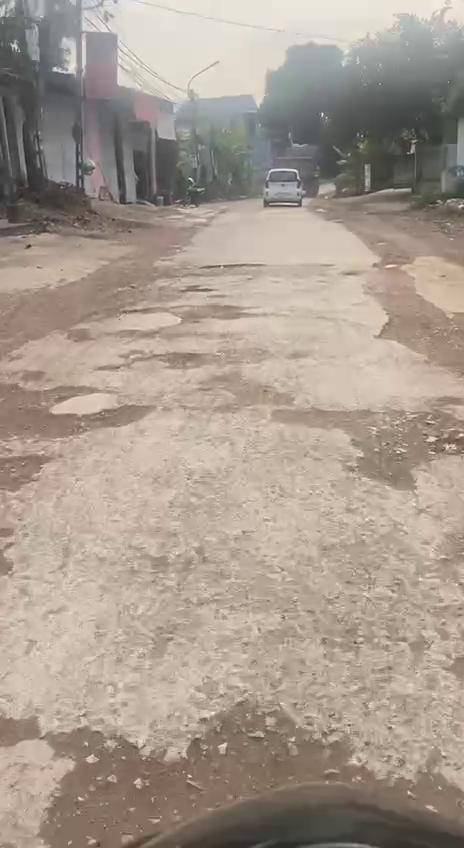pothole: (20, 704, 464, 848), (320, 402, 464, 488), (4, 396, 168, 439), (0, 451, 54, 493), (148, 348, 209, 368)
